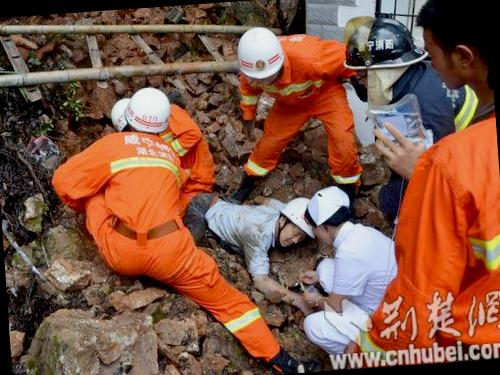no_helmet: (416, 0, 493, 100)
